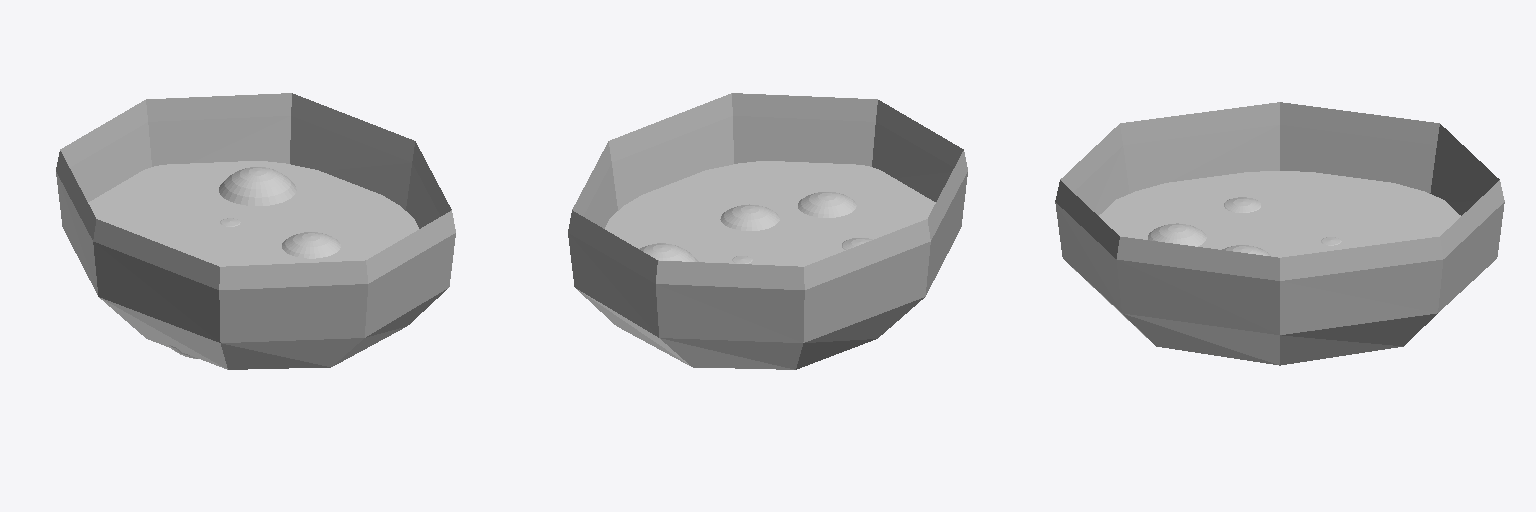
File: KUE BUGIS MANDI.obj
The picture shows the model from 3 angles: view 1: azimuth 30°, elevation 25°; view 2: azimuth 150°, elevation 25°; view 3: azimuth 270°, elevation 25°; orthographic projection.
Visible parts, largest first — view 1: Cube, Cylinder, Sphere.003, Sphere.002; view 2: Cube, Cylinder, Sphere.002, Sphere.004, Sphere.003; view 3: Cube, Cylinder, Sphere.004.
Boxes of the visible parts, box(x1,y1,x2,y2) form: Cube: box(56, 93, 455, 369); Cylinder: box(88, 161, 418, 266); Sphere.003: box(219, 167, 296, 205); Sphere.002: box(282, 232, 340, 258); Cube: box(568, 93, 967, 369); Cylinder: box(605, 161, 935, 266); Sphere.002: box(720, 204, 779, 230); Sphere.004: box(798, 192, 856, 217); Sphere.003: box(639, 243, 698, 261); Cube: box(1055, 102, 1504, 365); Cylinder: box(1099, 171, 1460, 257); Sphere.004: box(1148, 223, 1206, 246).
Bounding box in the file's own units: 2.73 × 1.22 × 3.26.